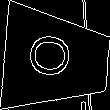O_E: (30, 36, 82, 84)
